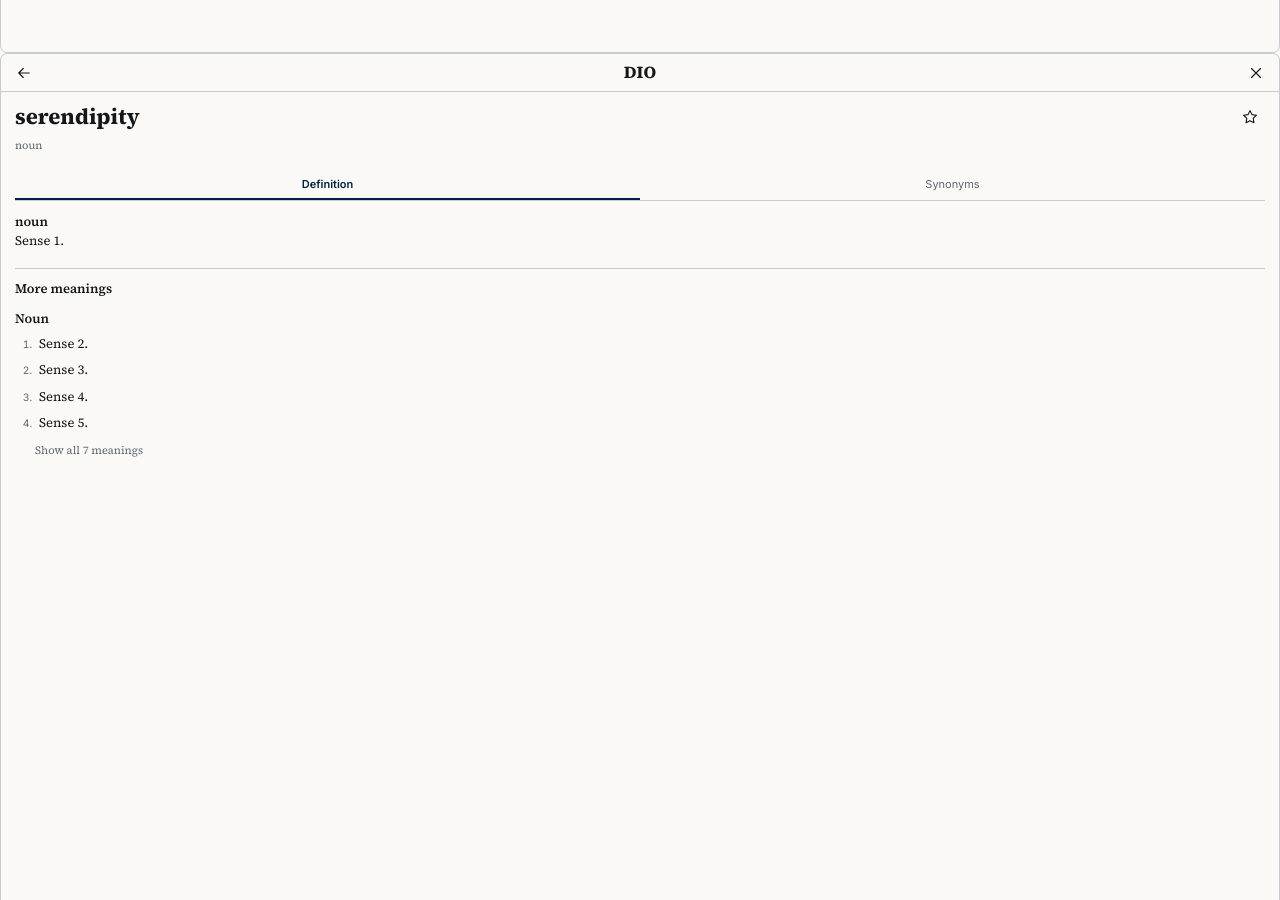
Test: popup › caps long sense lists and hides numeronym synonyms
(page scrolled)
Expected: the text "Sense 5." is shown, [39,414,88,431]
Expected: the text "Sense 6." is not shown
Click the button "Show all 7 meanings": click(89, 450) [35,442,143,458]
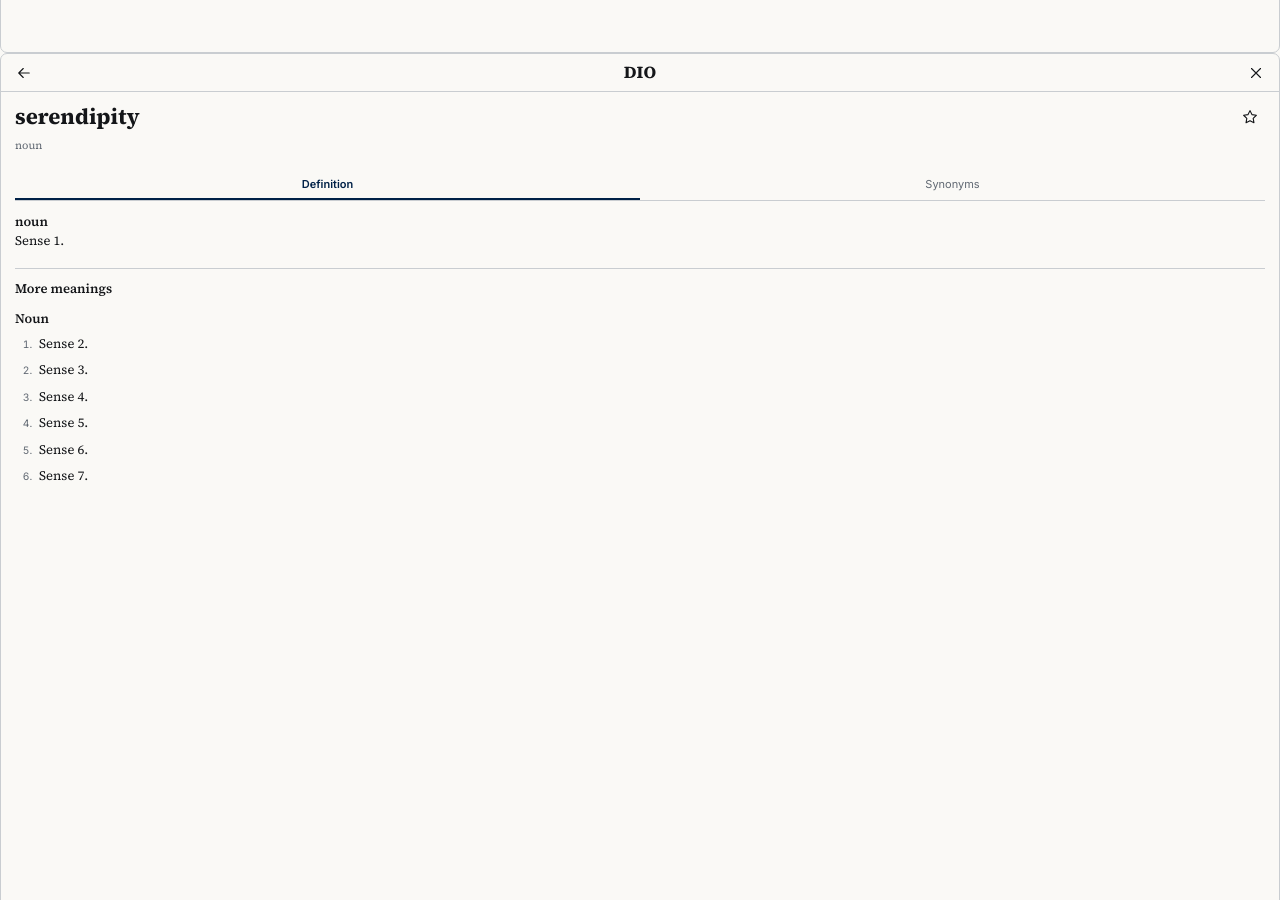
Result: the text "Sense 7." is shown at [39,467,88,484]
Click the tab "Synonyms": click(952, 186) [640,171,1265,200]
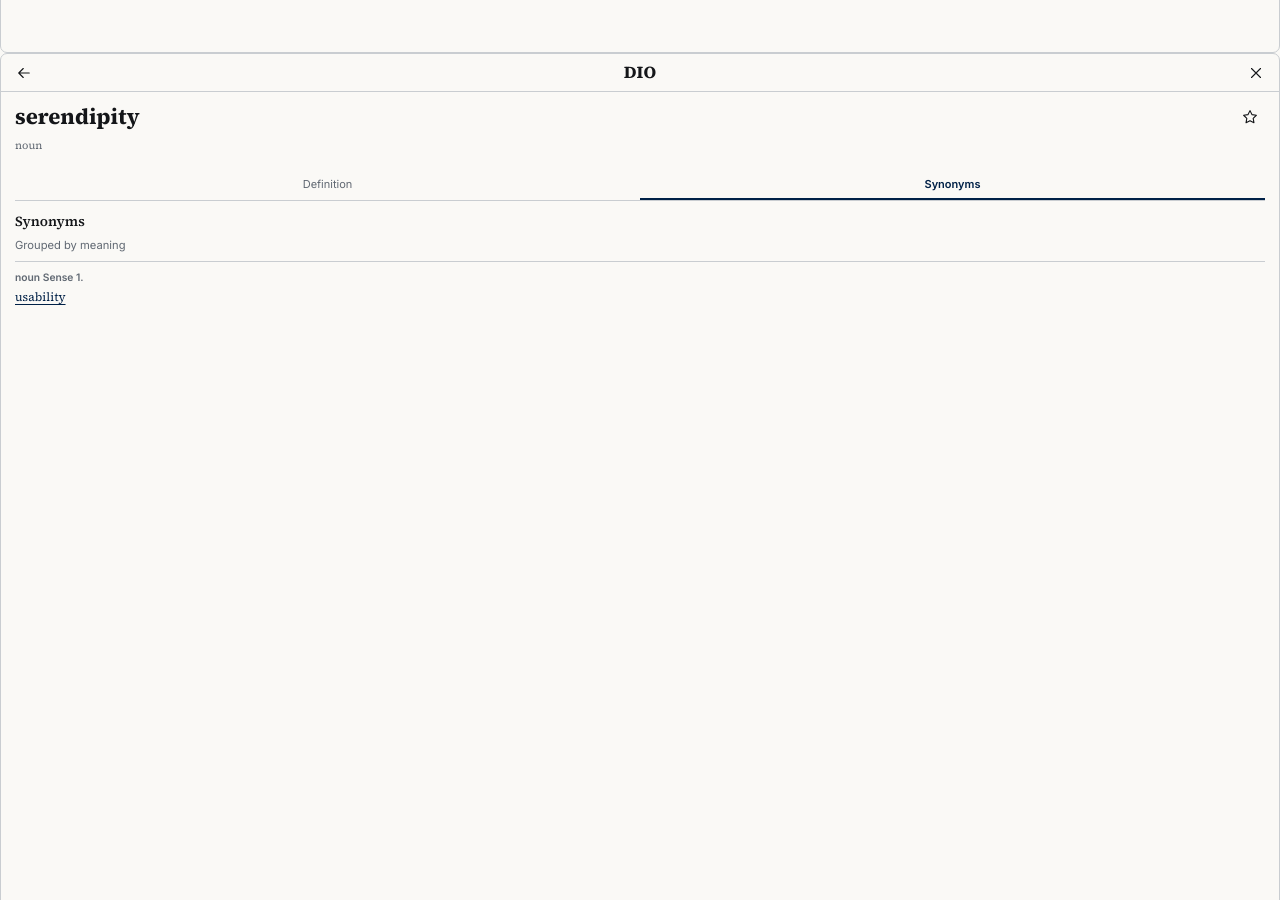
Result: the button "usability" is shown at [15,288,66,306]
